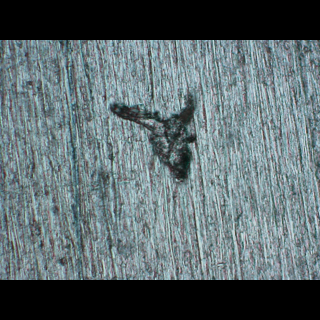d: (107, 86, 201, 185)
